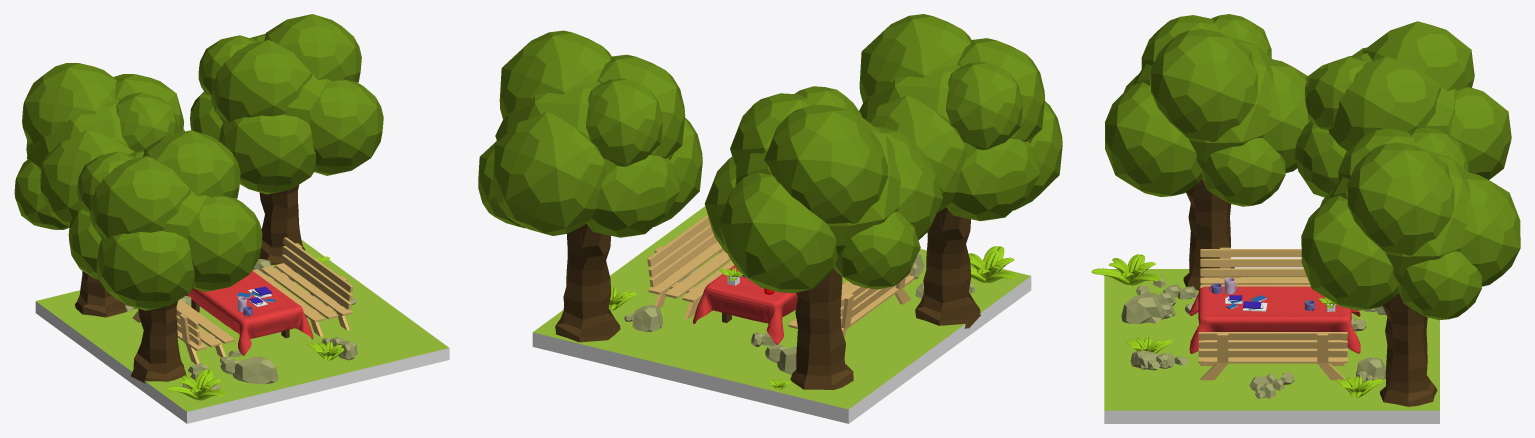
Rendered from picnic_1.glb.
3 renders of one model, left to right at view 1: azimuth 30°, elevation 25°; view 2: azimuth 150°, elevation 25°; view 3: azimuth 270°, elevation 25°, orthographic. The views are drawn at different scales.
Visible parts, largest first — view 1: GD_mesh.004, GD_mesh.003, GD_mesh.001, Cube.014, Cube, Cube.006, Plane, Circle.004, GD_mesh.000, Circle.001, Cube.004, Circle.000 (+2 smaller); view 2: GD_mesh.001, GD_mesh.003, GD_mesh.004, Cube.014, Cube, Circle.001, Circle.000, Circle.004, Cube.006, Plane, GD_mesh.000, Cube.004 (+1 smaller); view 3: GD_mesh.003, GD_mesh.004, GD_mesh.001, Cube.014, Plane, Cube.006, Cube, GD_mesh.000, Circle.001, Cube.004, Circle.004, Cube.013 (+2 smaller).
Boxes of the visible parts, bbox=[...] form: GD_mesh.004: bbox=[68, 130, 262, 310]; GD_mesh.003: bbox=[190, 14, 383, 194]; GD_mesh.001: bbox=[14, 63, 184, 229]; Cube.014: bbox=[36, 240, 448, 411]; Cube: bbox=[35, 301, 449, 423]; Cube.006: bbox=[252, 237, 353, 336]; Plane: bbox=[186, 270, 313, 355]; Circle.004: bbox=[131, 301, 186, 383]; GD_mesh.000: bbox=[125, 259, 358, 390]; Circle.001: bbox=[259, 185, 305, 264]; Cube.004: bbox=[132, 299, 234, 364]; Circle.000: bbox=[75, 271, 126, 317]; GD_mesh.001: bbox=[704, 86, 942, 293]; GD_mesh.003: bbox=[478, 30, 702, 237]; GD_mesh.004: bbox=[859, 14, 1062, 221]; Cube.014: bbox=[533, 206, 1030, 409]; Cube: bbox=[532, 276, 1031, 423]; Circle.001: bbox=[555, 223, 620, 342]; Circle.000: bbox=[790, 268, 853, 389]; Circle.004: bbox=[915, 207, 980, 328]; Cube.006: bbox=[647, 215, 734, 319]; Plane: bbox=[693, 265, 797, 344]; GD_mesh.000: bbox=[624, 252, 975, 374]; Cube.004: bbox=[788, 266, 914, 337]; GD_mesh.003: bbox=[1301, 127, 1520, 320]; GD_mesh.004: bbox=[1105, 14, 1309, 206]; GD_mesh.001: bbox=[1294, 21, 1511, 197]; Cube.014: bbox=[1104, 269, 1439, 410]; Plane: bbox=[1189, 286, 1360, 353]; Cube.006: bbox=[1198, 332, 1347, 380]; Cube: bbox=[1104, 410, 1439, 423]; GD_mesh.000: bbox=[1121, 276, 1386, 398]; Circle.001: bbox=[1380, 293, 1437, 406]; Cube.004: bbox=[1200, 247, 1310, 288]; Circle.004: bbox=[1183, 180, 1240, 290]; Cube.013: bbox=[1091, 254, 1161, 285].
Size of what is drawn, in the model's own units: 6.28 by 4.16 by 5.84.
